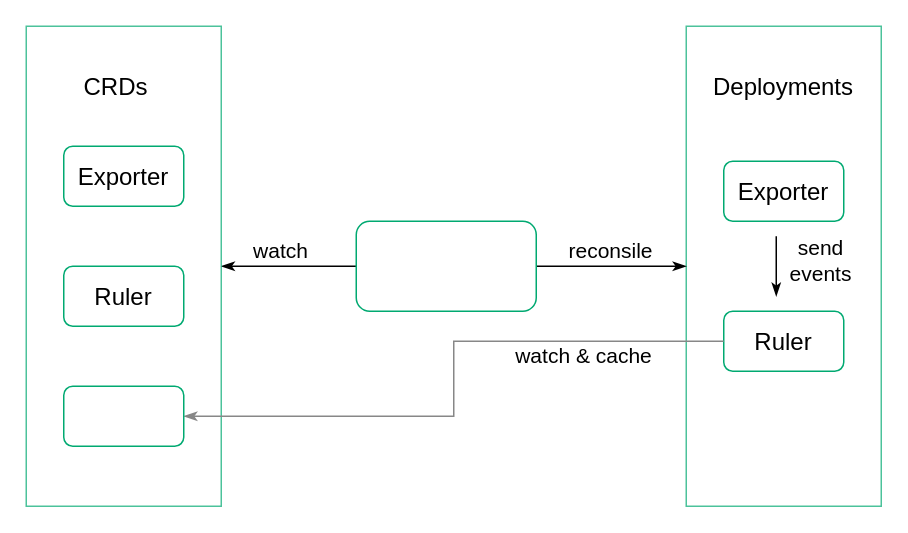
This 908x533 diagram has some shape labels left out. Here are the shapes that lost their labels. From the top down, the centre of each, then its label:
At point 445,265: "Operator".
At point 123,415: "Rule".
